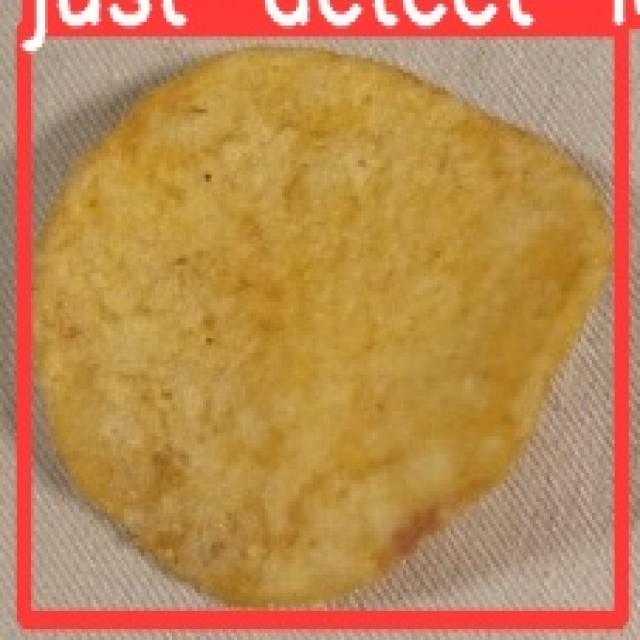Wet Waste: (46, 54, 606, 598)
